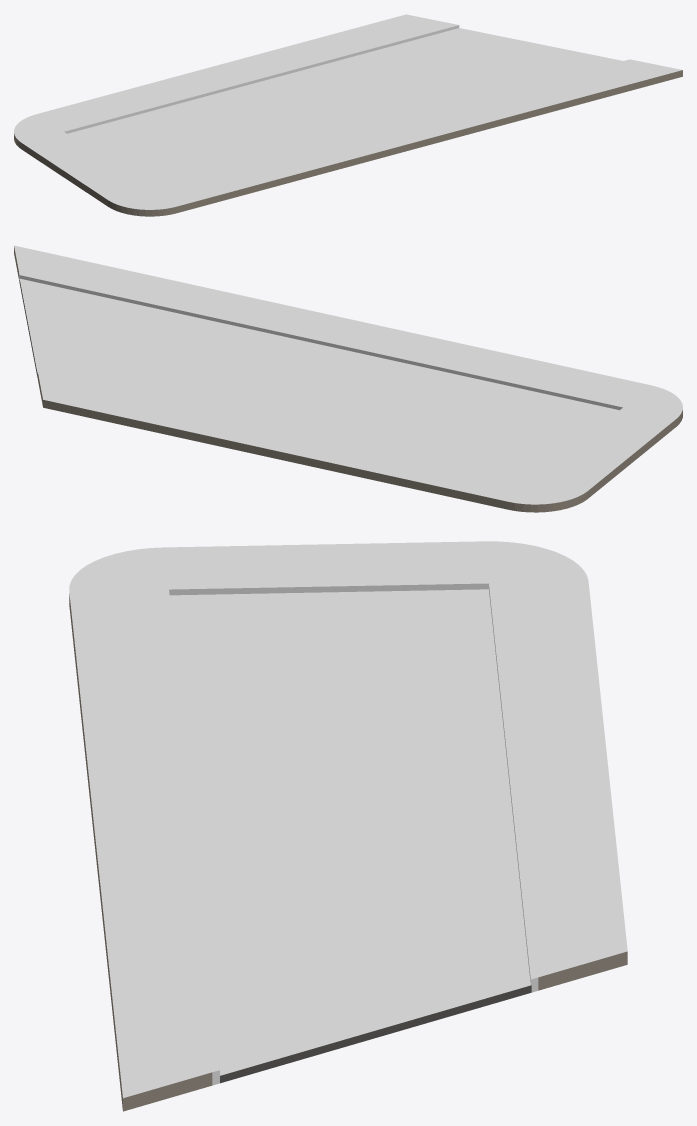
The picture shows the model from 3 angles, top to bottom: view 1: azimuth 30°, elevation 25°; view 2: azimuth 150°, elevation 25°; view 3: azimuth 270°, elevation 25°; orthographic projection. The views are drawn at different scales.
Parts seen in each view (by area): view 1: col_road, col_sidewalk, sidewalk, col_curb; view 2: col_road, col_sidewalk, col_curb, sidewalk; view 3: col_road, col_sidewalk, col_curb, sidewalk, road.
Boxes of the visible parts, x1,y1,x2,y2 form: col_road: [67, 28, 622, 188]; col_sidewalk: [14, 14, 681, 209]; sidewalk: [14, 70, 682, 216]; col_curb: [60, 24, 633, 190]; col_road: [19, 278, 619, 479]; col_sidewalk: [14, 245, 682, 504]; col_curb: [19, 273, 627, 481]; sidewalk: [14, 246, 682, 512]; col_road: [169, 589, 530, 1075]; col_sidewalk: [69, 541, 627, 1098]; col_curb: [161, 580, 538, 1085]; sidewalk: [69, 594, 627, 1111]; road: [220, 985, 531, 1083].
Bounding box in the file's own units: 28.65 × 0.32 × 12.14.
